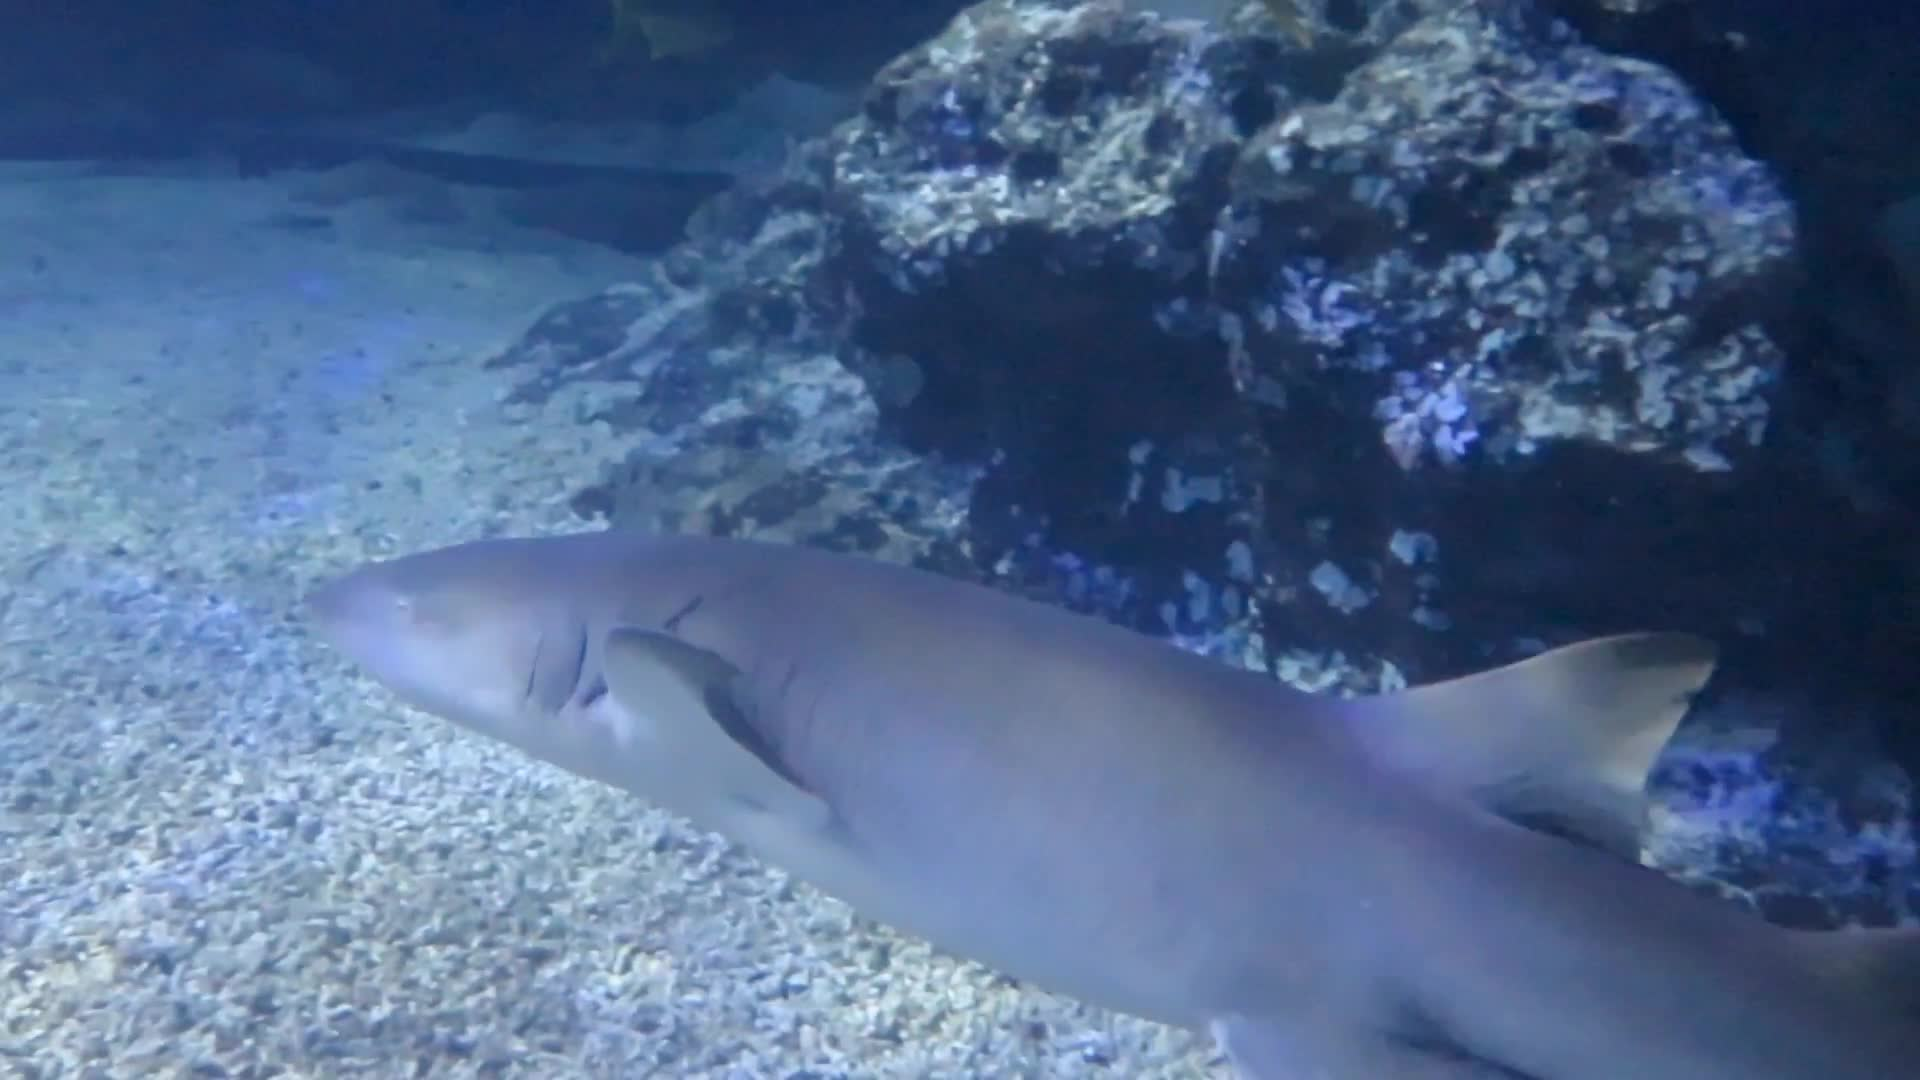Nebrius ferrugineus: (332, 502, 1842, 1072)
